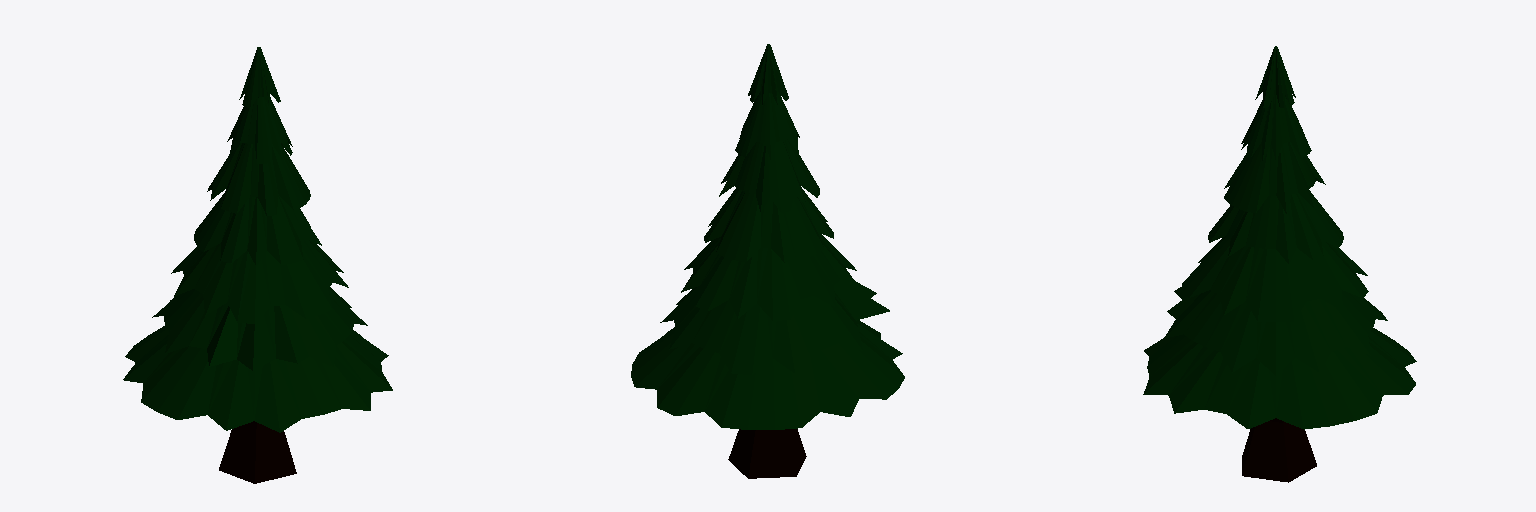
Rendered from tree_big.obj.
The picture shows the model from 3 angles: view 1: azimuth 30°, elevation 25°; view 2: azimuth 150°, elevation 25°; view 3: azimuth 270°, elevation 25°; orthographic projection.
Visible parts, largest first — view 1: tree2; view 2: tree2; view 3: tree2.
Boxes of the visible parts, x1,y1,x2,y2 form: tree2: [123, 47, 392, 483]; tree2: [631, 44, 904, 478]; tree2: [1143, 46, 1416, 482].
Bounding box in the file's own units: 5.03 × 8.61 × 5.1.